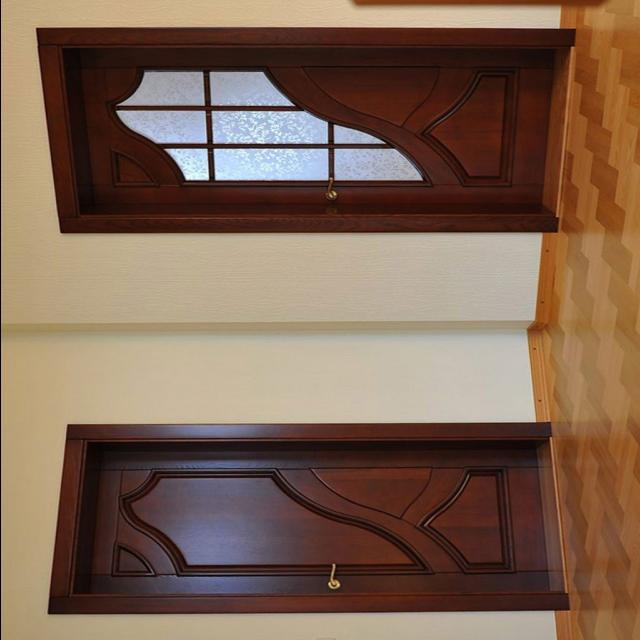close: (64, 48, 566, 222), (88, 438, 562, 604)
